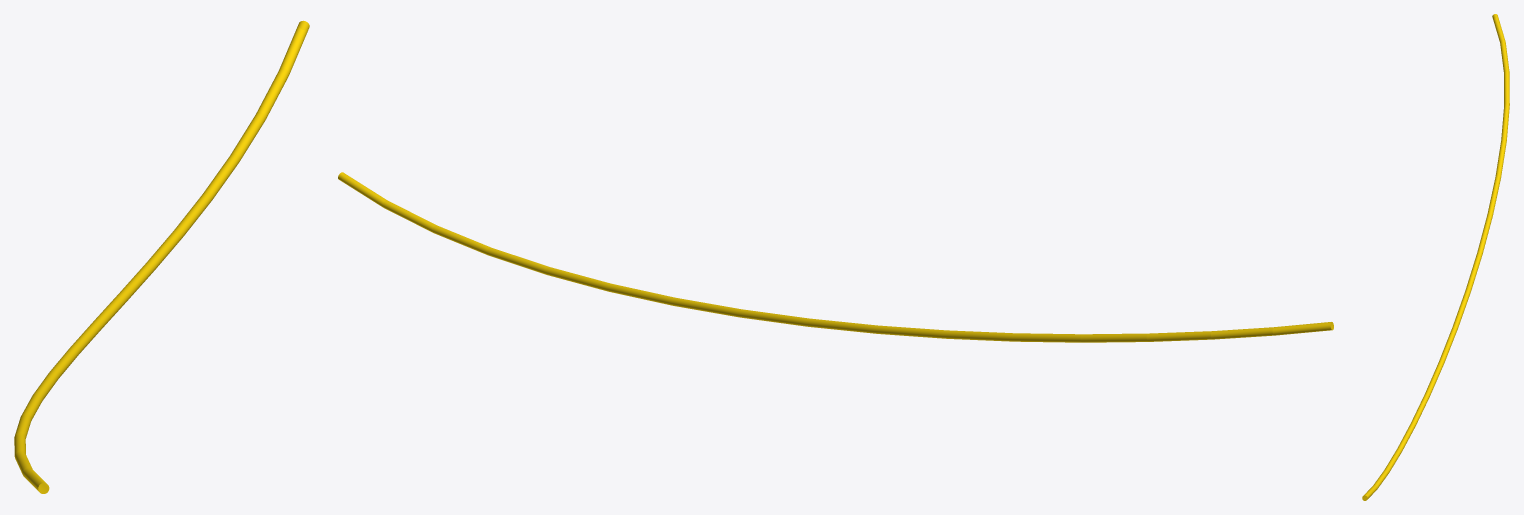
The model's file is Event_421364160_track_56.fbx.
3 views of the same model, side by side, from view 1: azimuth 90°, elevation 25°; view 2: azimuth 150°, elevation 25°; view 3: azimuth 270°, elevation 25° (orthographic). The views are drawn at different scales.
Visible parts, largest first — view 1: Model; view 2: Model; view 3: Model.
Part boxes in pixels (box(x1,y1,x2,y2)): Model: box(14, 20, 309, 493); Model: box(338, 172, 1333, 342); Model: box(1362, 14, 1509, 500).
Size of the model in its own units: 5.93 by 1.08 by 1.03.
